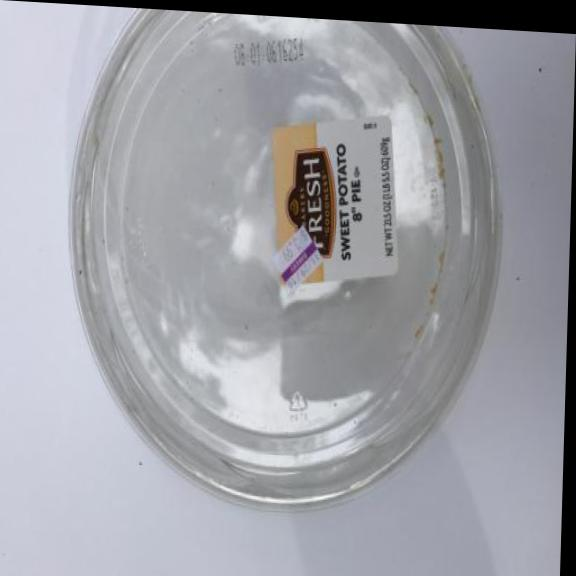Plastik: (56, 6, 507, 534)
